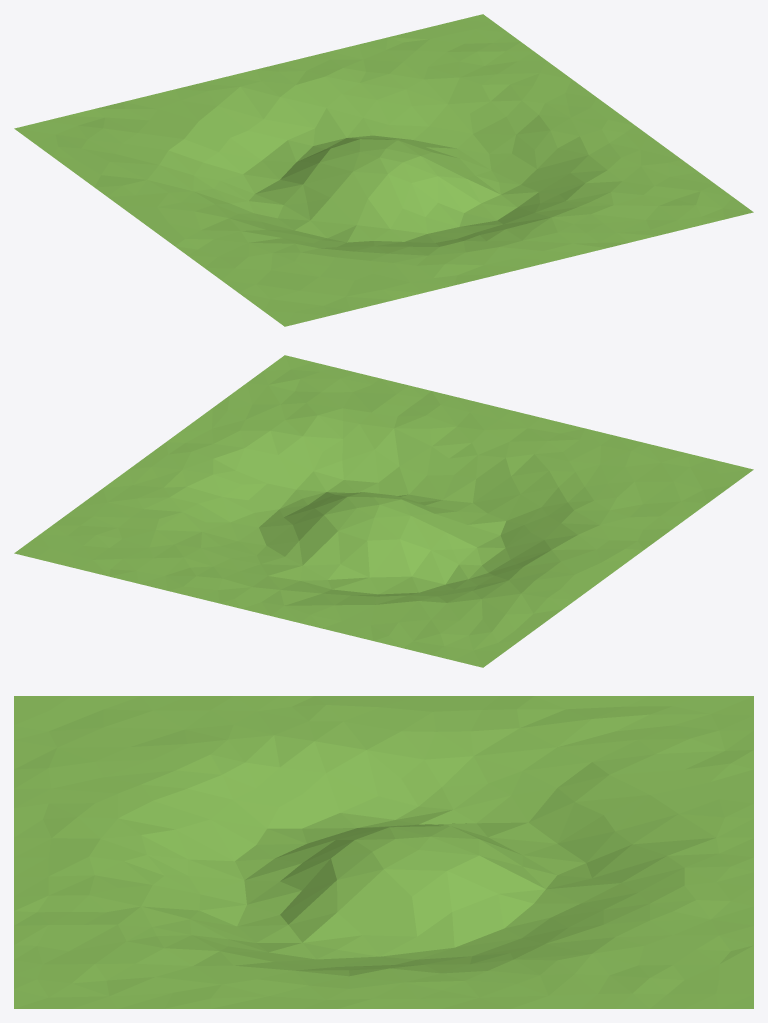
File: MT_Terrain_M_b_10.fbx
3 views of the same model, one above another, from view 1: azimuth 30°, elevation 25°; view 2: azimuth 150°, elevation 25°; view 3: azimuth 270°, elevation 25° (orthographic). The views are drawn at different scales.
Parts seen in each view (by area): view 1: MT_Terrain_M_b_10; view 2: MT_Terrain_M_b_10; view 3: MT_Terrain_M_b_10.
Boxes of the visible parts, x1=… form: MT_Terrain_M_b_10: x1=14, y1=14, x2=753, y2=326; MT_Terrain_M_b_10: x1=14, y1=355, x2=753, y2=667; MT_Terrain_M_b_10: x1=14, y1=696, x2=753, y2=1008.
Size of the model in its own units: 5000 by 366 by 5000.
